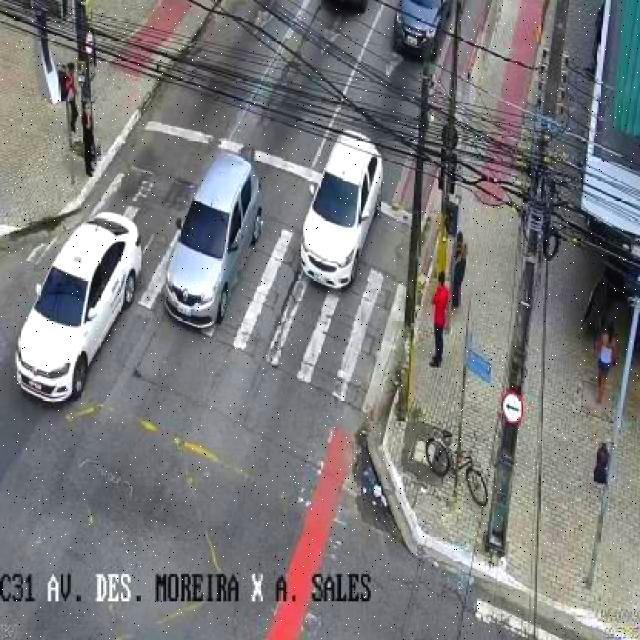Car: (14, 210, 144, 405), (162, 153, 264, 330), (299, 127, 385, 291), (390, 0, 452, 60)
Cycle: (425, 427, 489, 505)
